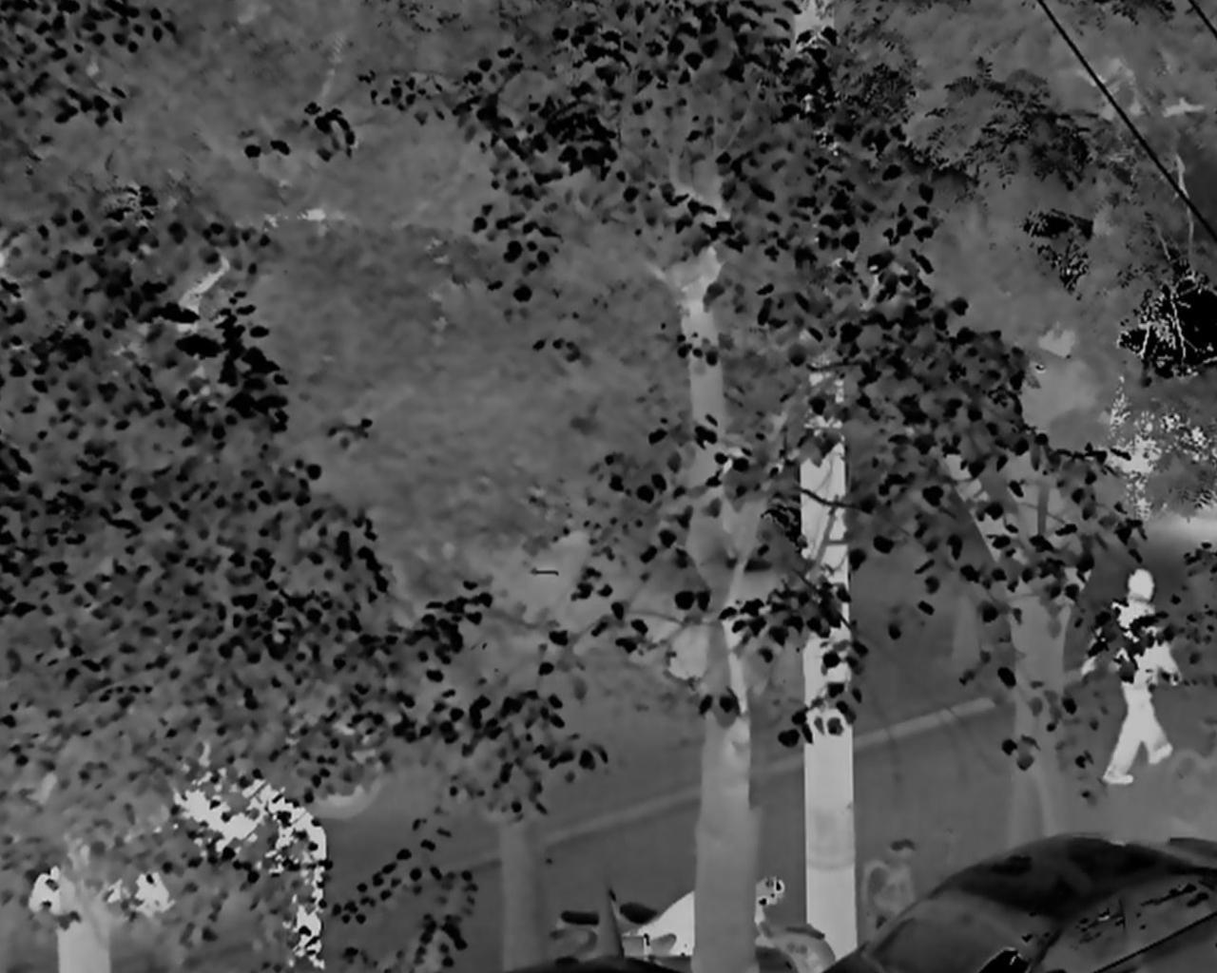person: (1095, 567, 1178, 784), (261, 792, 332, 973)
